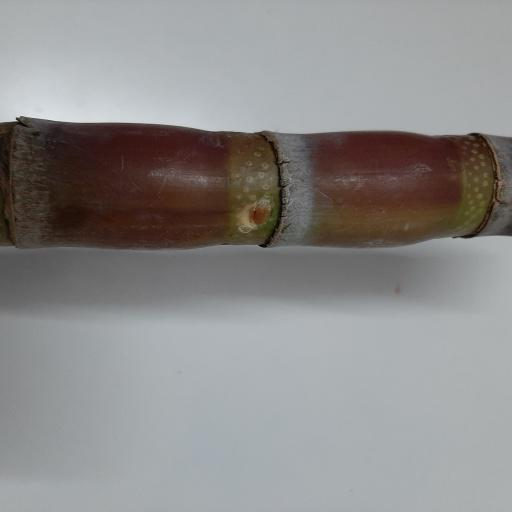Damage_Bud: (236, 196, 277, 234)
